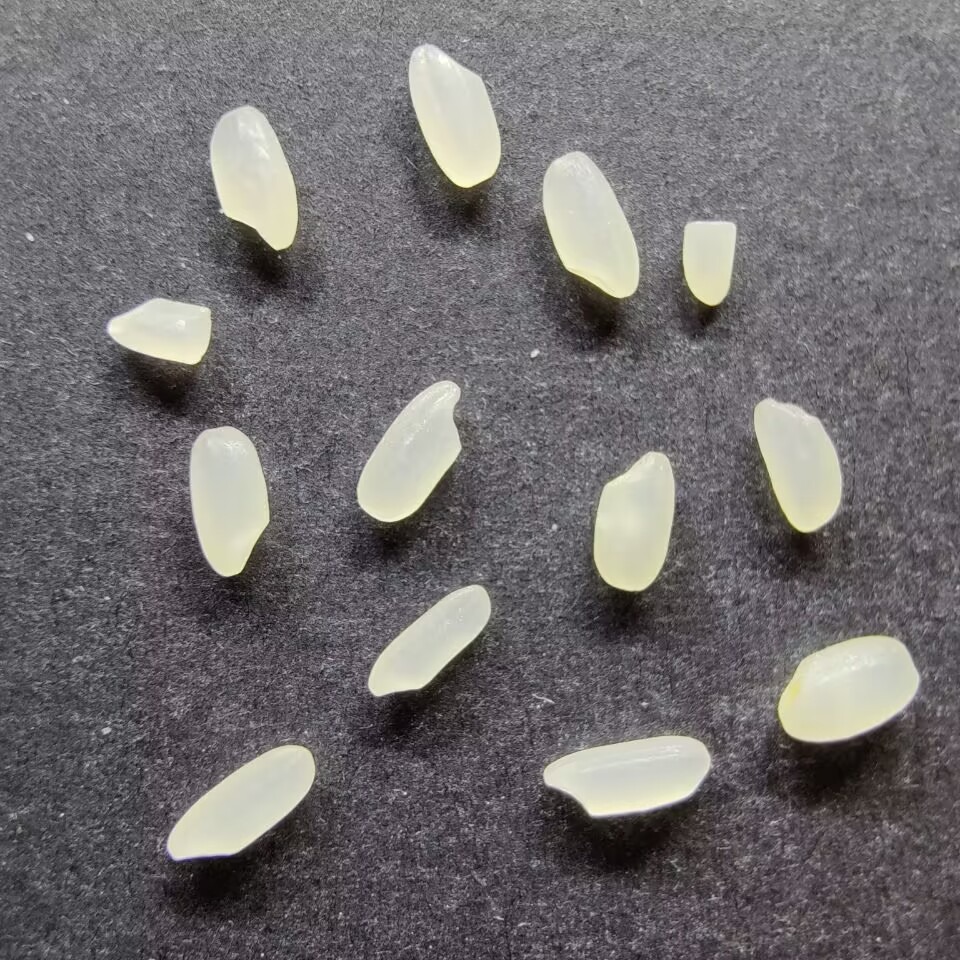broken: (102, 297, 215, 365), (681, 217, 740, 308)
rice: (167, 739, 317, 864), (775, 633, 922, 744), (353, 377, 463, 524), (540, 148, 642, 299), (364, 582, 493, 701), (406, 39, 505, 188), (540, 733, 712, 818), (206, 104, 299, 251), (187, 426, 273, 580), (751, 395, 843, 535), (590, 448, 677, 592)
